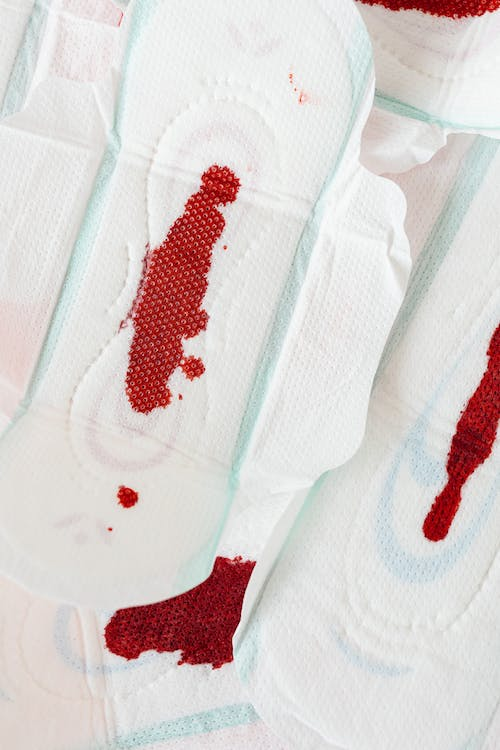blood: (113, 160, 244, 415), (416, 318, 500, 546), (101, 553, 258, 673), (351, 0, 500, 22), (104, 478, 141, 535), (282, 61, 309, 110)
